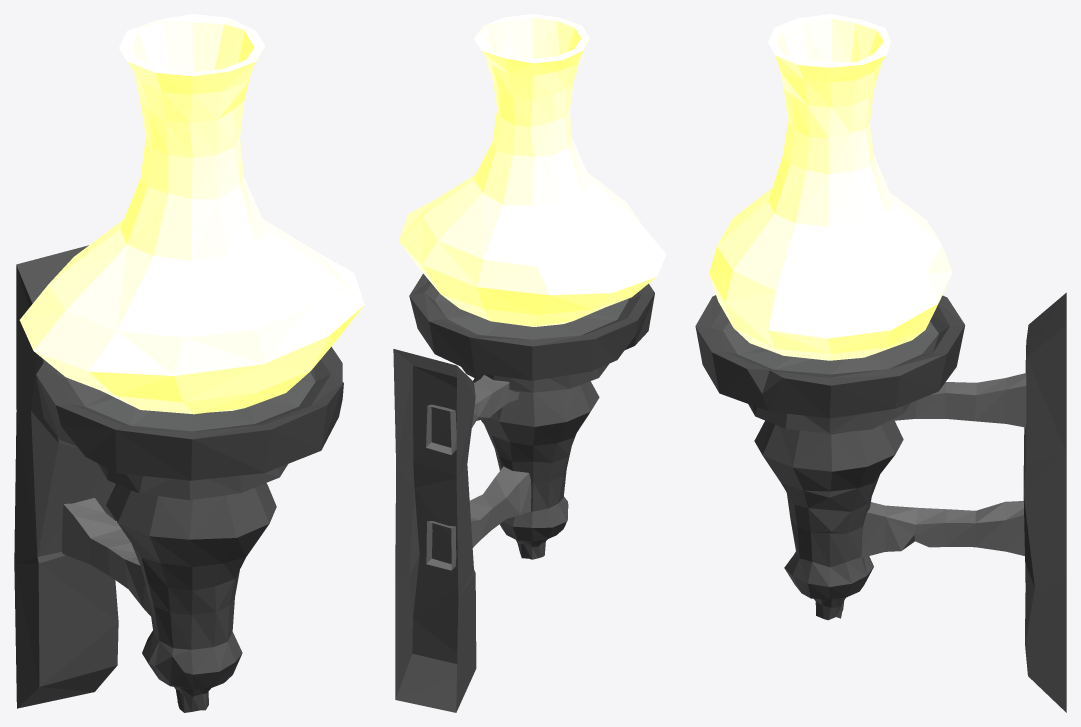
The model's file is SFHW_Lamp.fbx.
The picture shows the model from 3 angles, left to right: view 1: azimuth 30°, elevation 25°; view 2: azimuth 150°, elevation 25°; view 3: azimuth 270°, elevation 25°; orthographic projection. The views are drawn at different scales.
Parts seen in each view (by area): view 1: SFHW_Lamp; view 2: SFHW_Lamp; view 3: SFHW_Lamp.
Boxes of the visible parts, x1=… form: SFHW_Lamp: x1=14, y1=14, x2=364, y2=712; SFHW_Lamp: x1=393, y1=14, x2=666, y2=712; SFHW_Lamp: x1=695, y1=14, x2=1066, y2=712.
Bounding box in the file's own units: 22.91 × 51.99 × 26.61.
